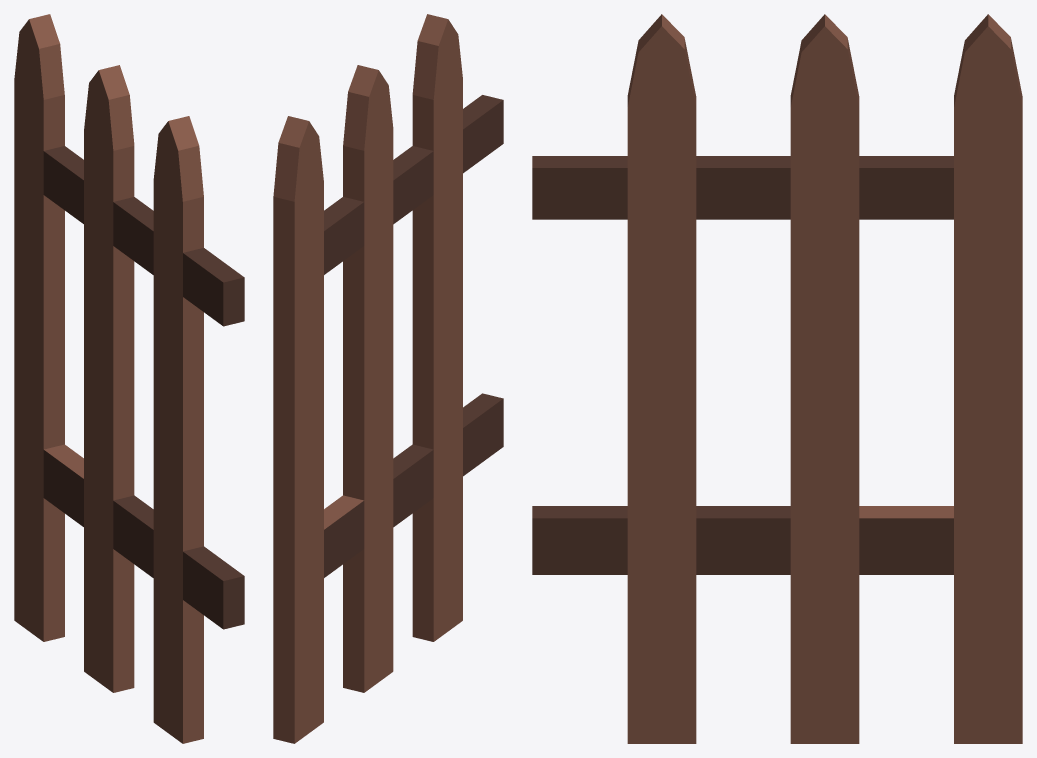
File: CercaDire.fbx
3 renders of one model, left to right at view 1: azimuth 30°, elevation 25°; view 2: azimuth 150°, elevation 25°; view 3: azimuth 270°, elevation 25°, orthographic. The views are drawn at different scales.
Parts seen in each view (by area): view 1: Direita; view 2: Direita; view 3: Direita.
Boxes of the visible parts, x1=… form: Direita: x1=14, y1=14, x2=244, y2=743; Direita: x1=273, y1=14, x2=503, y2=743; Direita: x1=532, y1=14, x2=1022, y2=743.
Bounding box in the file's own units: 12.3 × 340 × 211.
